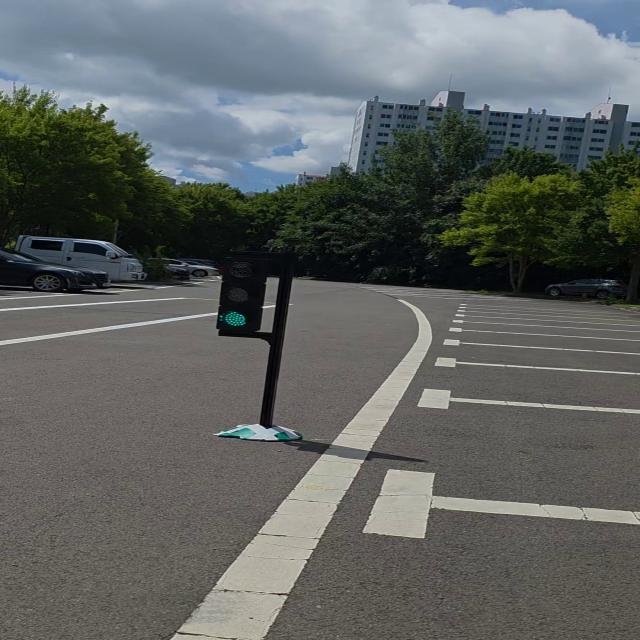green: (215, 256, 275, 335)
